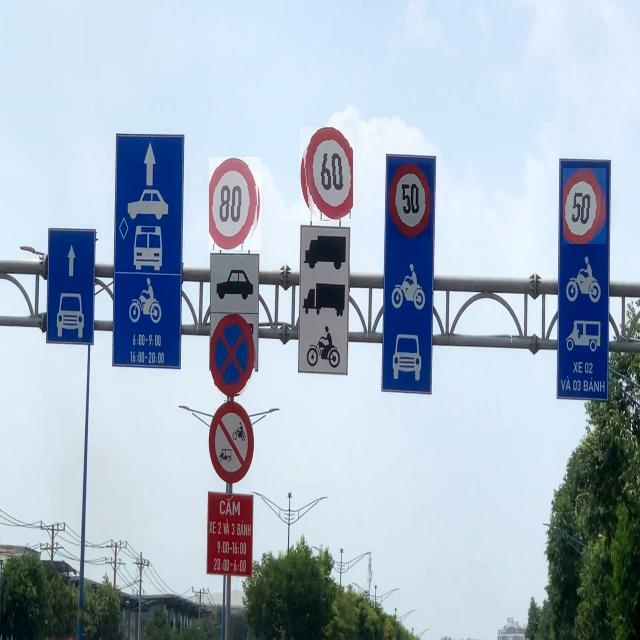bien_chi_dan: (300, 127, 353, 221), (210, 157, 262, 250), (210, 314, 256, 396), (563, 168, 606, 244), (389, 164, 432, 239)
